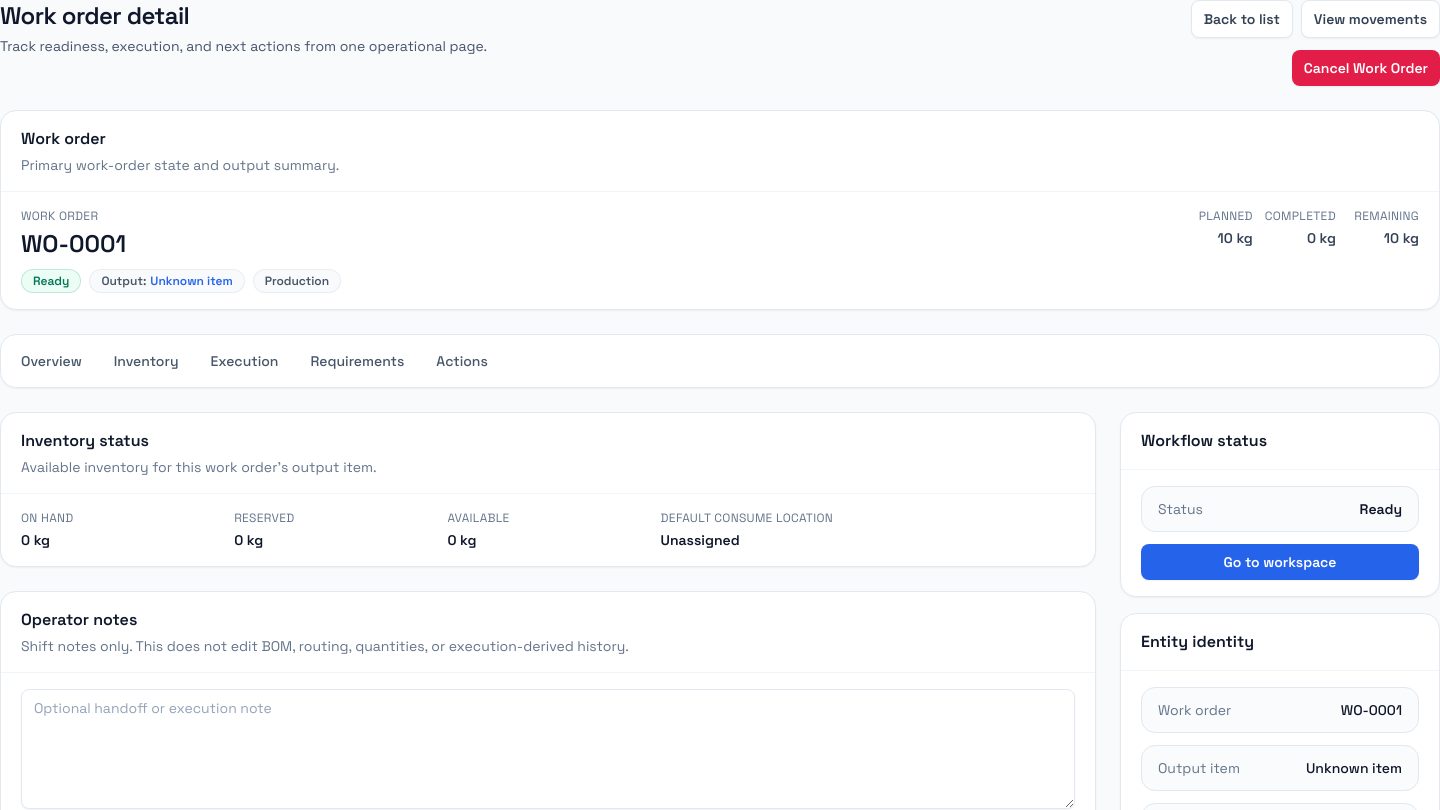
Scenario: WorkOrderDetailPage tabs › shows Cancel Work Order button and opens modal for authorized user
This screenshot has width=1440, height=810.
Click the button "Cancel Work Order". click: (1366, 68)
box: [1292,50,1439,86]
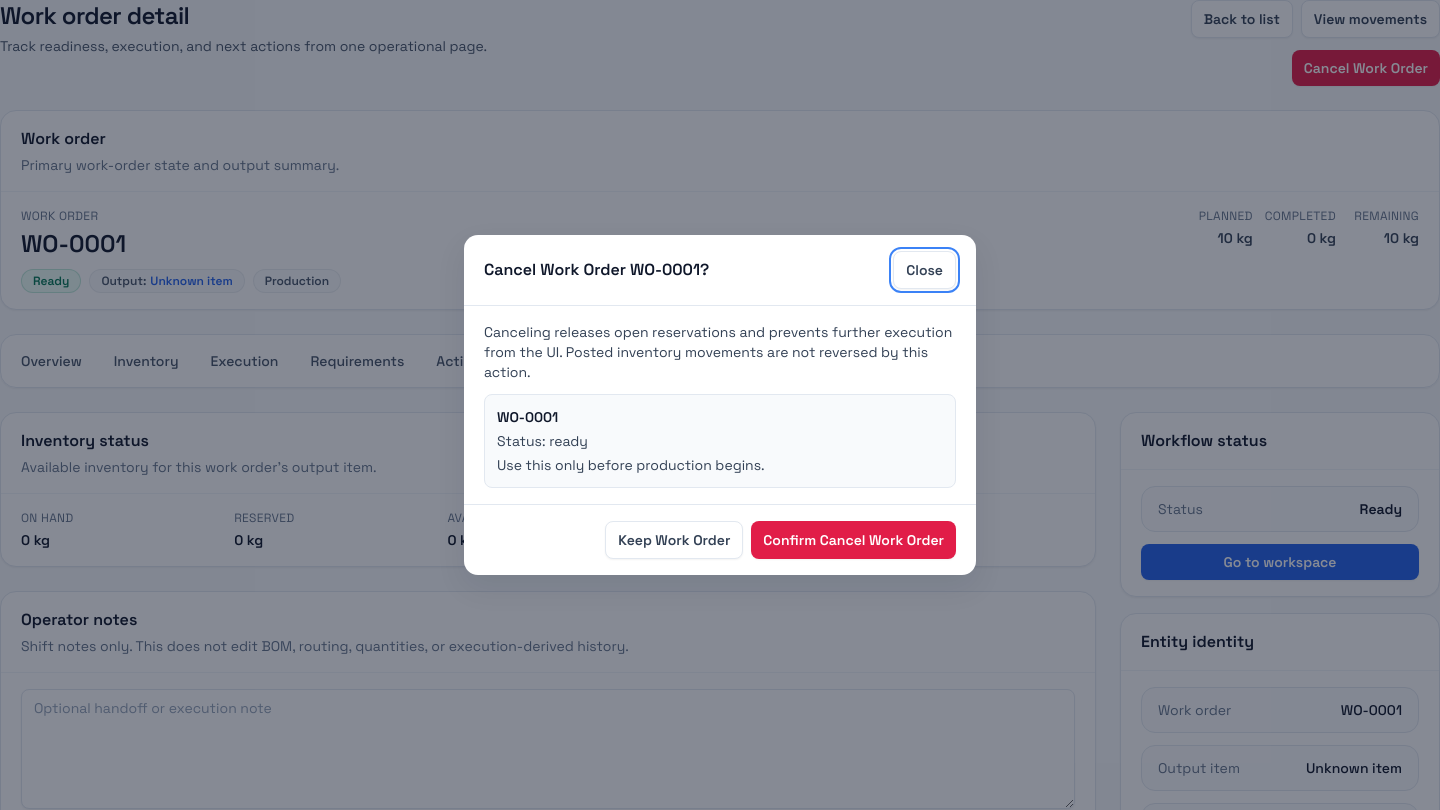
Check: the text "Cancel Work Order WO-0001?" is shown, box [484,258,709,282]
